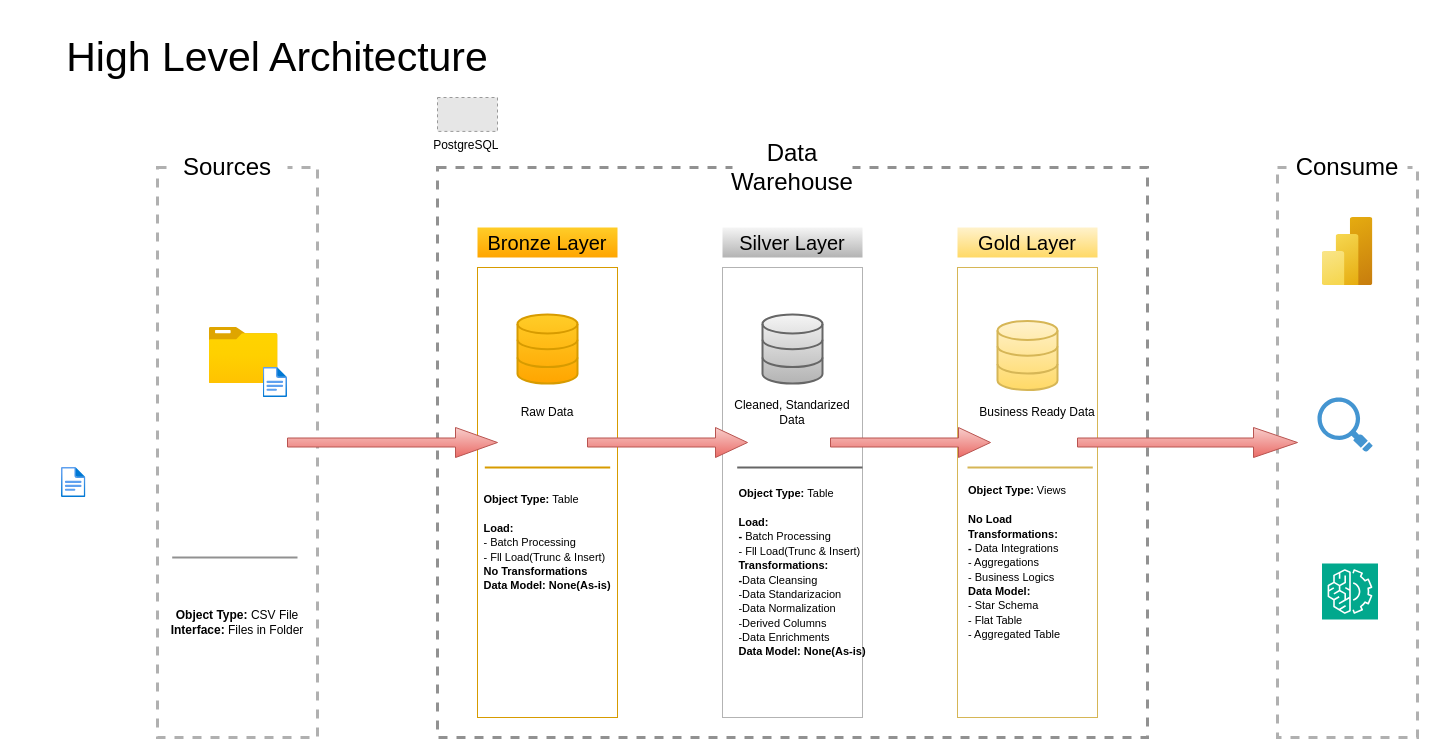
Image size: 1436x756. Some labels were removed from this diagram. Grey dashed boxes stand in for pictures. The box of each missing label's shape, as (x1, y1, x2, y2) in pixels:
Ad-Hoc SQL Queries: (1317, 397, 1372, 451)
Bi & Reporting: (1322, 217, 1372, 285)
CSV Files: (209, 327, 278, 383)
Machine Learning: (1321, 562, 1378, 620)
